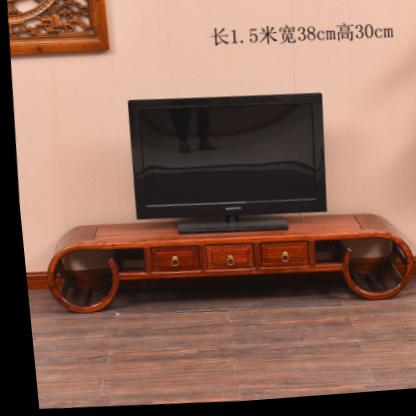TV stand: (40, 218, 409, 316)
